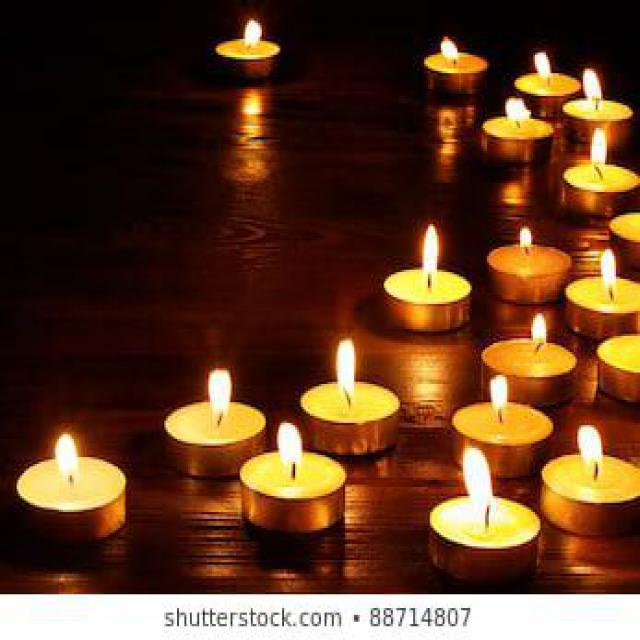Fire: (462, 446, 495, 510), (56, 432, 80, 480), (578, 424, 604, 467), (208, 368, 232, 414), (336, 337, 356, 392), (278, 421, 302, 466), (422, 225, 440, 278), (504, 97, 532, 125), (589, 128, 608, 169), (582, 66, 602, 103), (490, 372, 508, 413), (600, 247, 617, 290), (532, 51, 554, 79), (243, 18, 262, 48), (438, 38, 462, 61), (531, 313, 548, 345), (518, 226, 533, 249)
